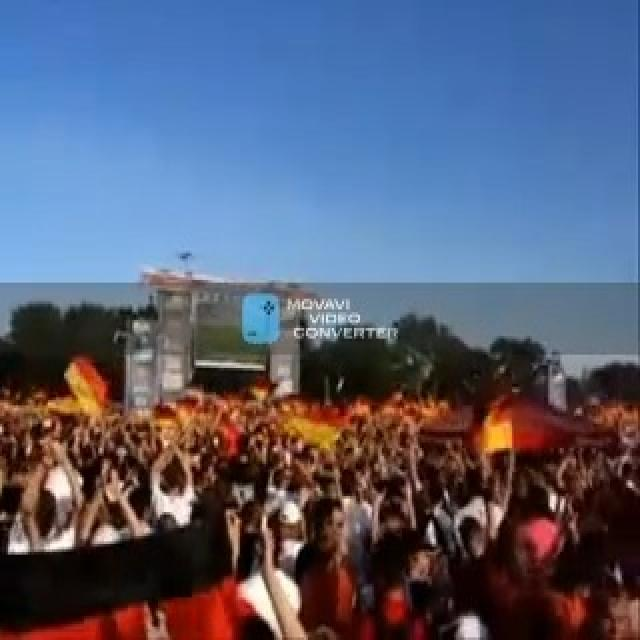non-voilence: (0, 379, 638, 637)
